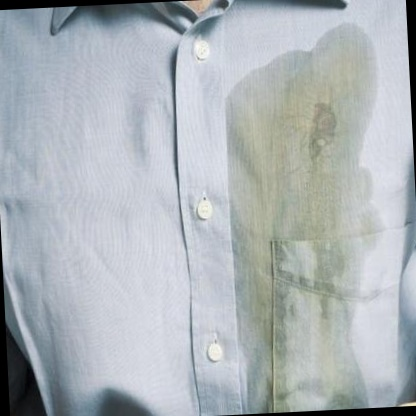coffee: (227, 64, 372, 248), (237, 250, 284, 410)
